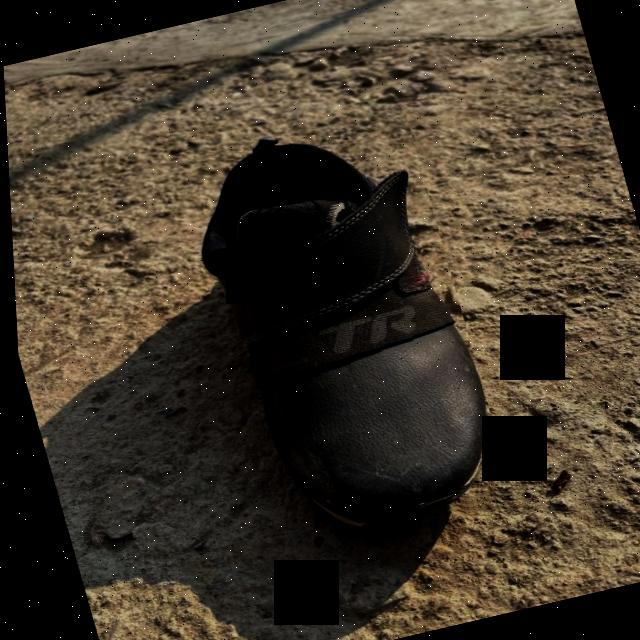shoe: (170, 114, 512, 556)
